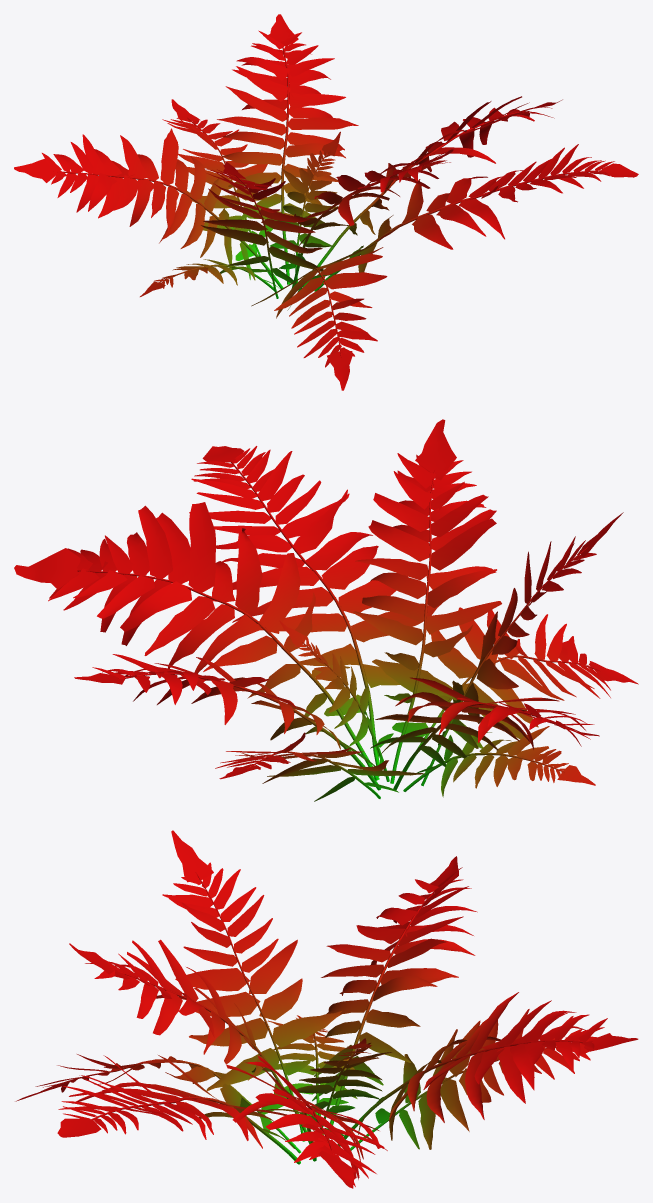
Rendered from Silvery Glade Fern_LOD1_Var9_xf5lebcqx.fbx.
3 views of the same model, one above another, from view 1: azimuth 30°, elevation 25°; view 2: azimuth 150°, elevation 25°; view 3: azimuth 270°, elevation 25° (orthographic). The views are drawn at different scales.
Visible parts, largest first — view 1: _jtqp_Var9_LOD1; view 2: _jtqp_Var9_LOD1; view 3: _jtqp_Var9_LOD1.
Part boxes in pixels (bbox=[...]): _jtqp_Var9_LOD1: bbox=[14, 14, 638, 390]; _jtqp_Var9_LOD1: bbox=[14, 419, 638, 801]; _jtqp_Var9_LOD1: bbox=[15, 830, 638, 1188].
Bounding box in the file's own units: 69.67 × 26.71 × 60.75.
